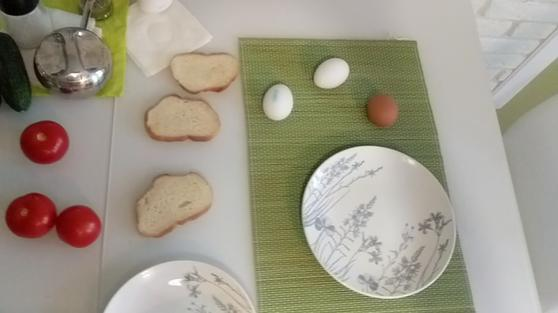cucumber: (1, 30, 32, 113)
egg: (311, 56, 351, 90), (261, 81, 293, 121), (364, 90, 398, 126)
tomato: (5, 189, 58, 238), (19, 118, 71, 163), (57, 203, 102, 248)
white_bread: (136, 170, 212, 237), (143, 95, 221, 143), (171, 50, 241, 93)
